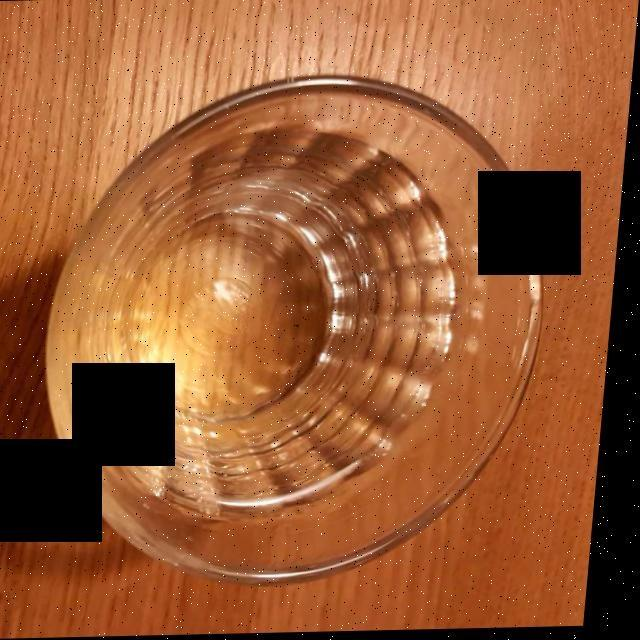water: (98, 144, 483, 527)
